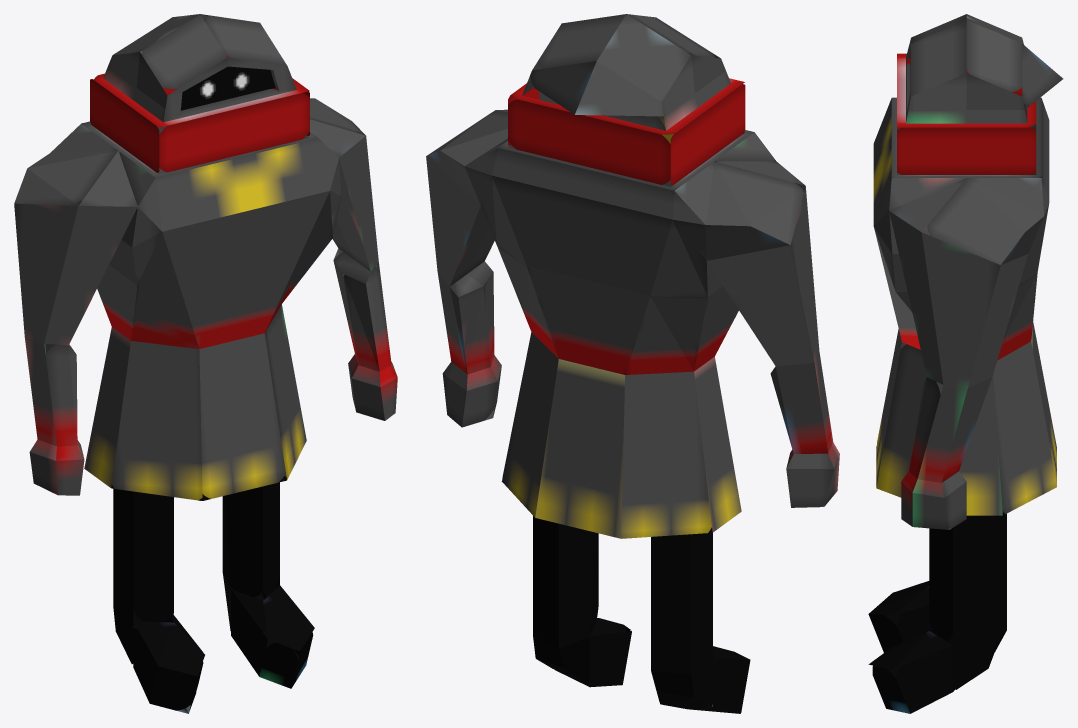
Rendered from alfikra.obj.
3 views of the same model, side by side, from view 1: azimuth 30°, elevation 25°; view 2: azimuth 150°, elevation 25°; view 3: azimuth 270°, elevation 25° (orthographic). The views are drawn at different scales.
Visible parts, largest first — view 1: beveled_cuboid; view 2: beveled_cuboid; view 3: beveled_cuboid.
Part boxes in pixels (x1,y1,x2,y2): beveled_cuboid: (14,14,397,713); beveled_cuboid: (426,14,839,713); beveled_cuboid: (868,14,1063,713).
Size of the model in its own units: 0.5075 by 0.8794 by 0.2344.
1 material, 1 textured.
